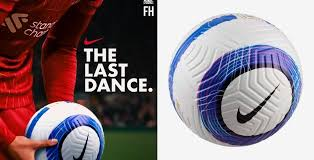football ball: (167, 11, 306, 148), (28, 100, 107, 160)
